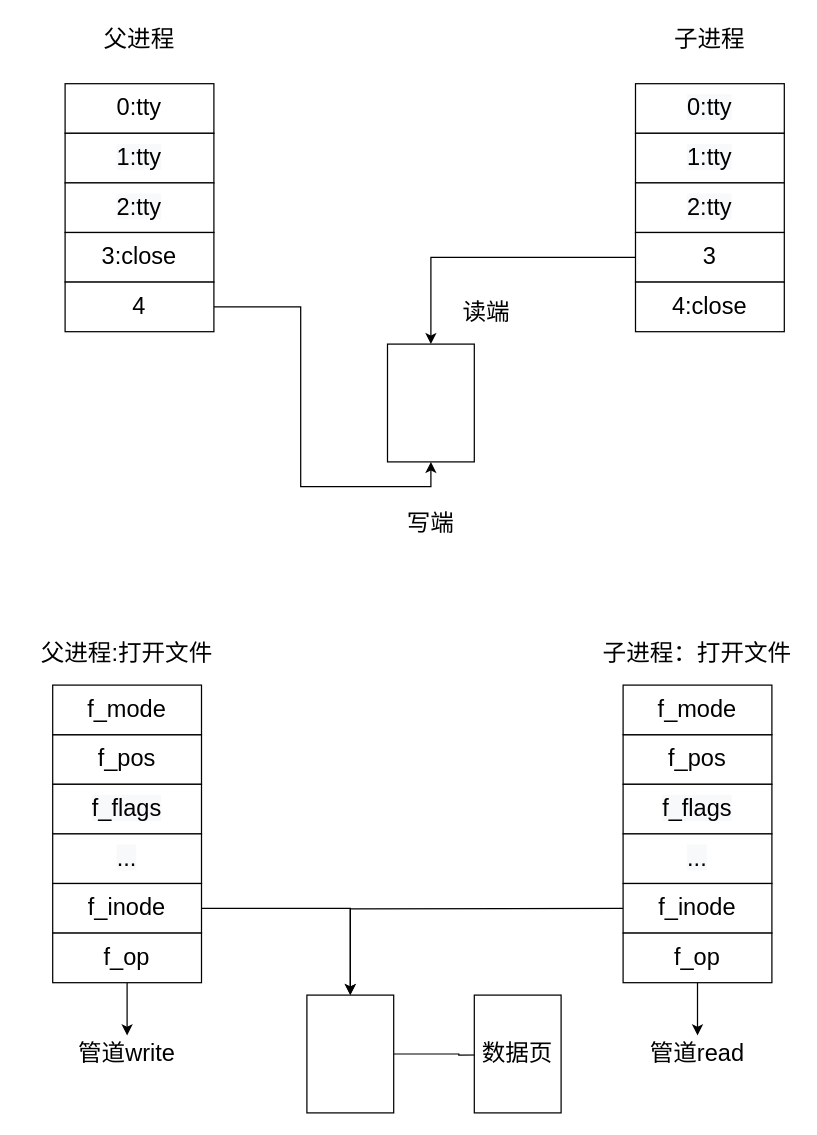
Some shapes in this 817 by 1135 pixel diagram are drawn without their labels. The shapes that lost their labels are listed below. From the top down, each one's box as (x1, y1, x2, y2) in pixels, then its label:
(386, 343, 474, 462): 管道
(306, 994, 394, 1113): inode
